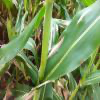Corn leaf blight: (40, 1, 99, 87), (17, 51, 40, 81), (47, 18, 61, 19)
